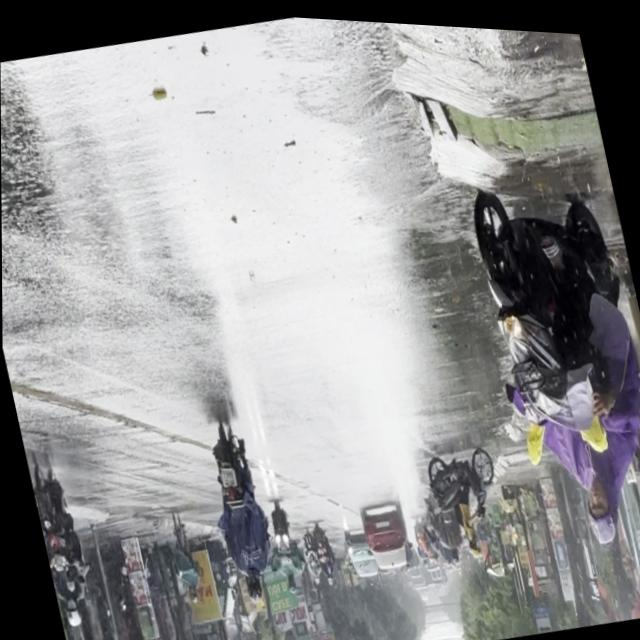helmet: (579, 469, 619, 536), (241, 570, 262, 602), (60, 598, 79, 628)
licenseplate: (456, 156, 640, 559), (195, 409, 282, 607), (24, 450, 96, 631)
nohelmet: (217, 463, 235, 485)
